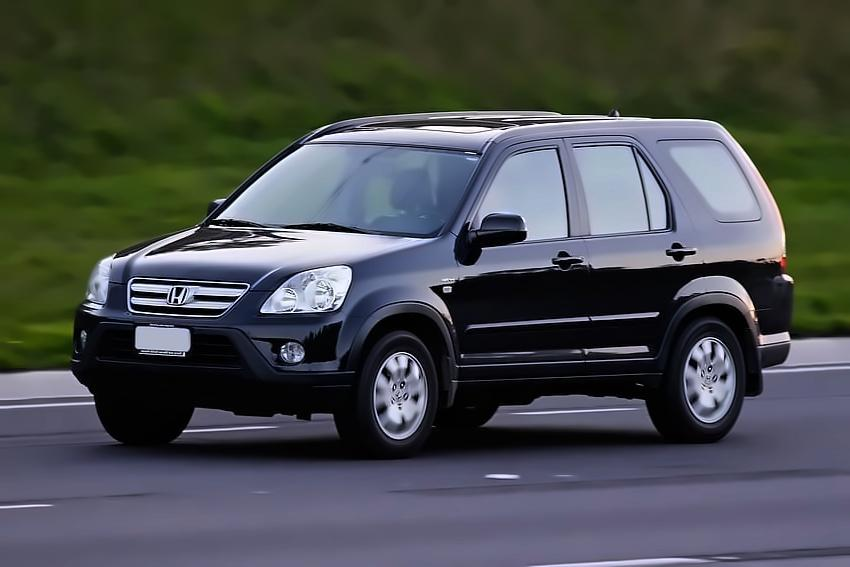Car hood: (95, 214, 433, 296)
Fender - -F-L-: (339, 228, 469, 418)
Fender - -R-L-: (677, 105, 796, 325)
Front bumper: (74, 303, 373, 421)
Headlight - -L-: (258, 263, 353, 319)
Headlight - -R-: (85, 246, 115, 307)
Passenger-s door - -F-L-: (445, 126, 593, 414)
Passenger-s door - -R-L-: (560, 118, 705, 418)
Rear bumper: (750, 327, 794, 381)
Side bumper - -L-: (442, 349, 671, 414)
Side mirror - -L-: (452, 212, 526, 267)
